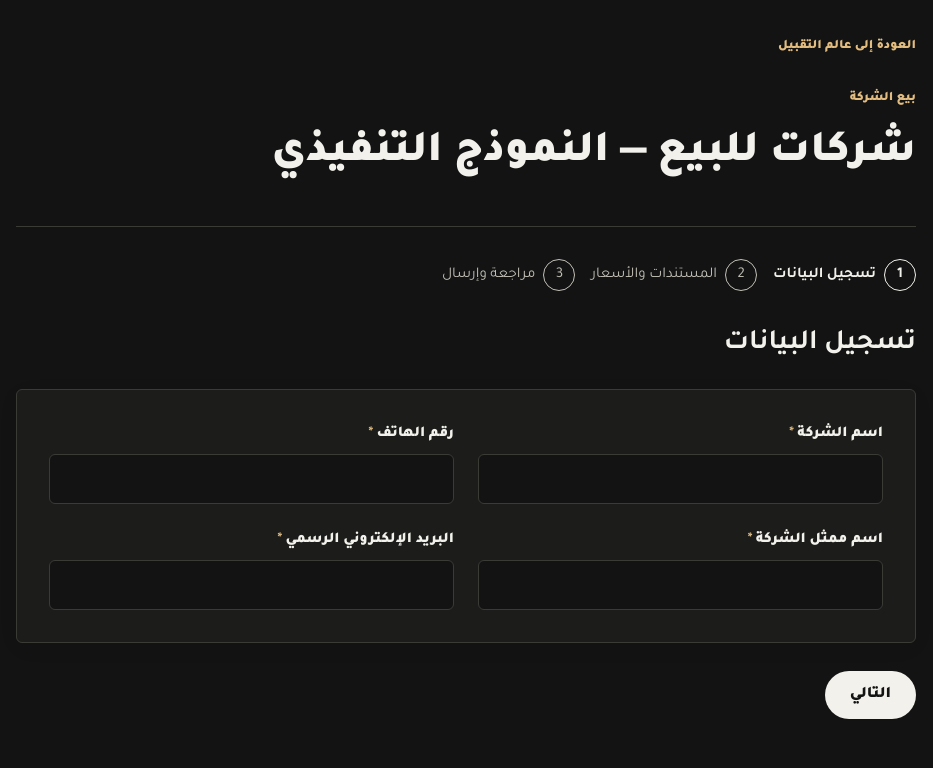
Test case: company sale forms › requires the six executive documents and excludes the page from indexing
The width and height of the screenshot is (933, 768).
In the field labelled "اسم الشركة": (680, 479) [478,454,883,504], type "شركة اختبار"
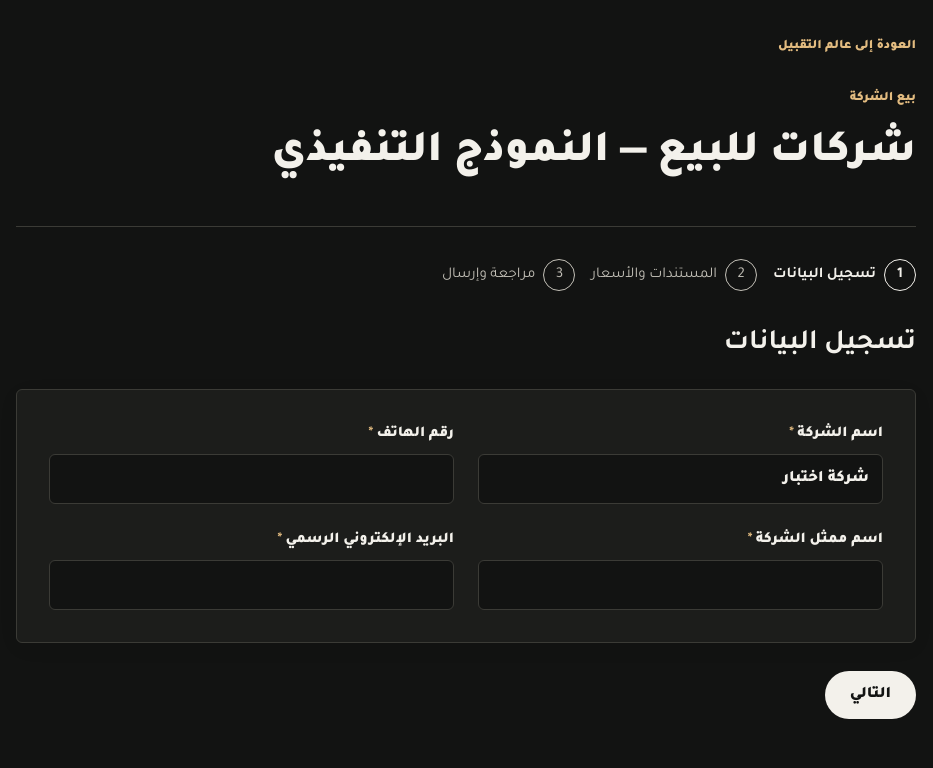
In the field labelled "رقم الهاتف": (252, 479) [49,454,454,504], type "+966512345678"
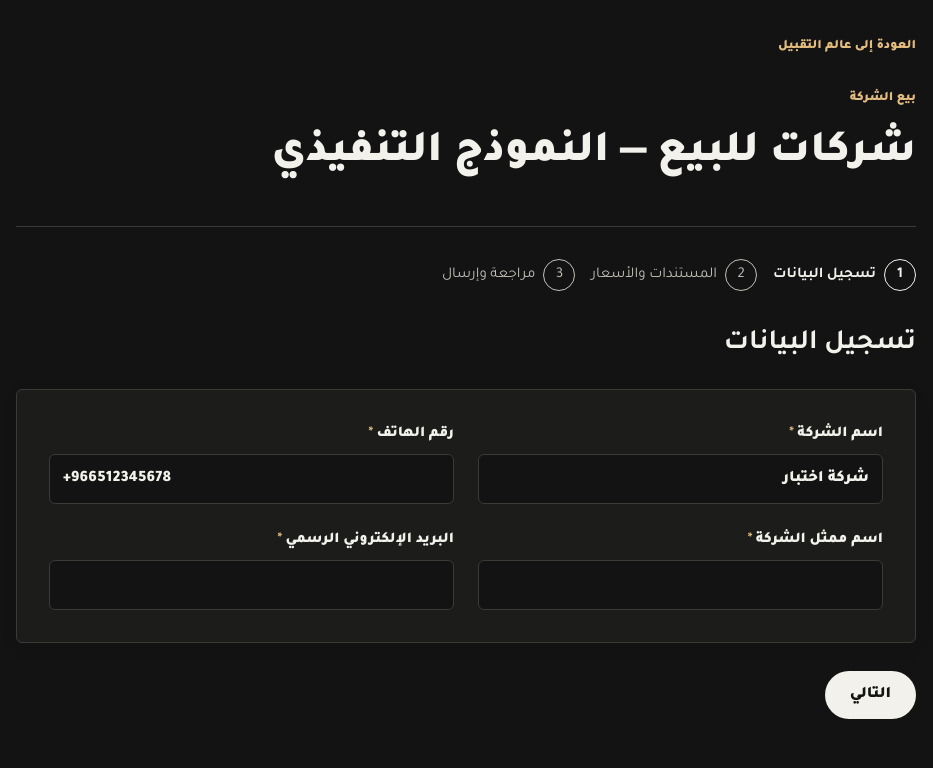
In the field labelled "اسم ممثل الشركة": (680, 585) [478,560,883,610], type "ممثل الاختبار"
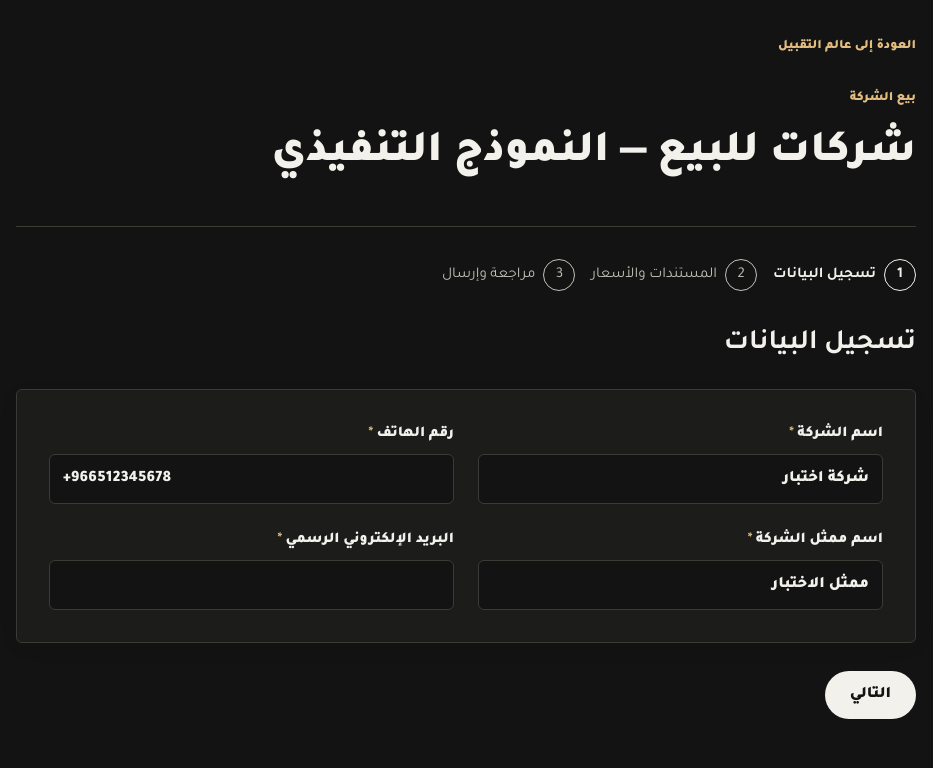
In the field labelled "البريد الإلكتروني": (252, 585) [49,560,454,610], type "test@example.com"
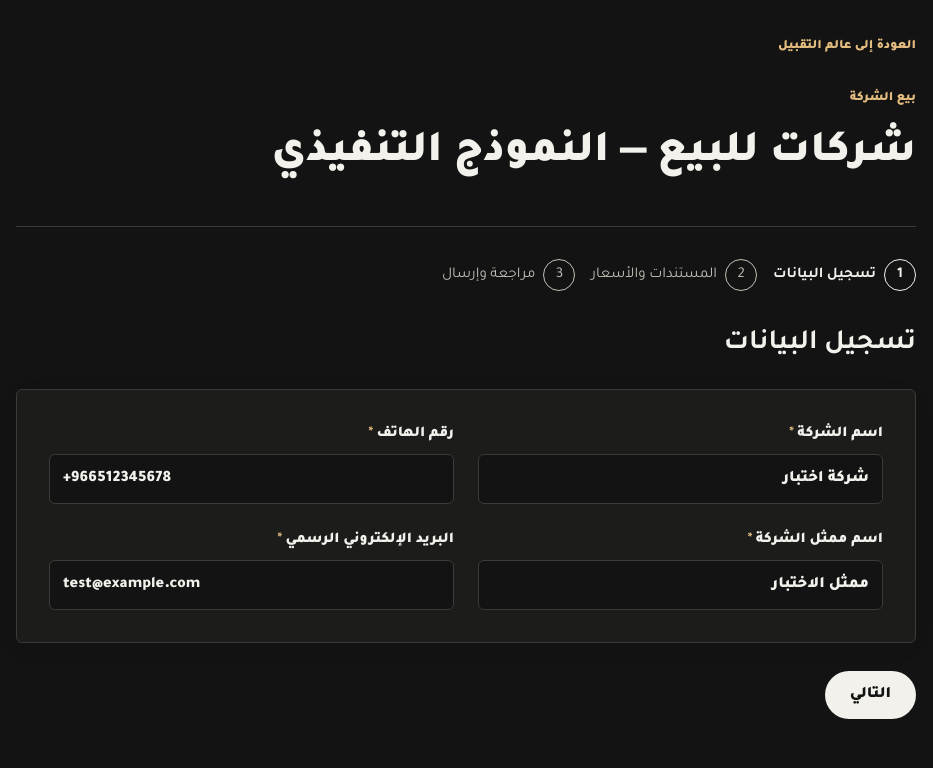
Click the button "التالي": (870, 695) [825,671,916,719]
(page scrolled)
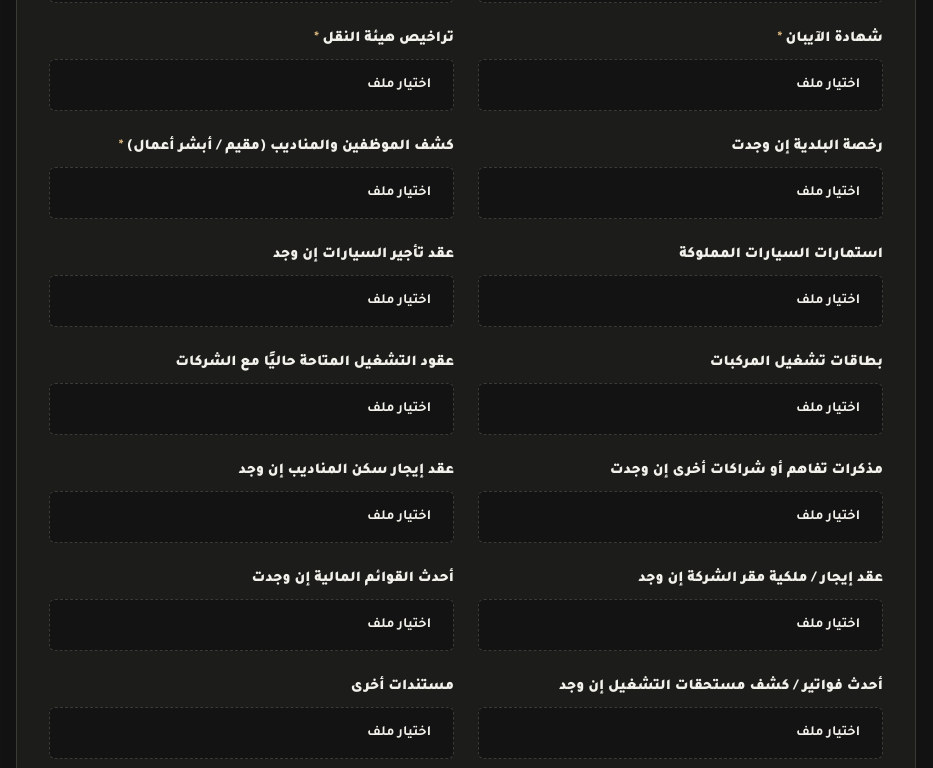
Submit the form
(page scrolled)
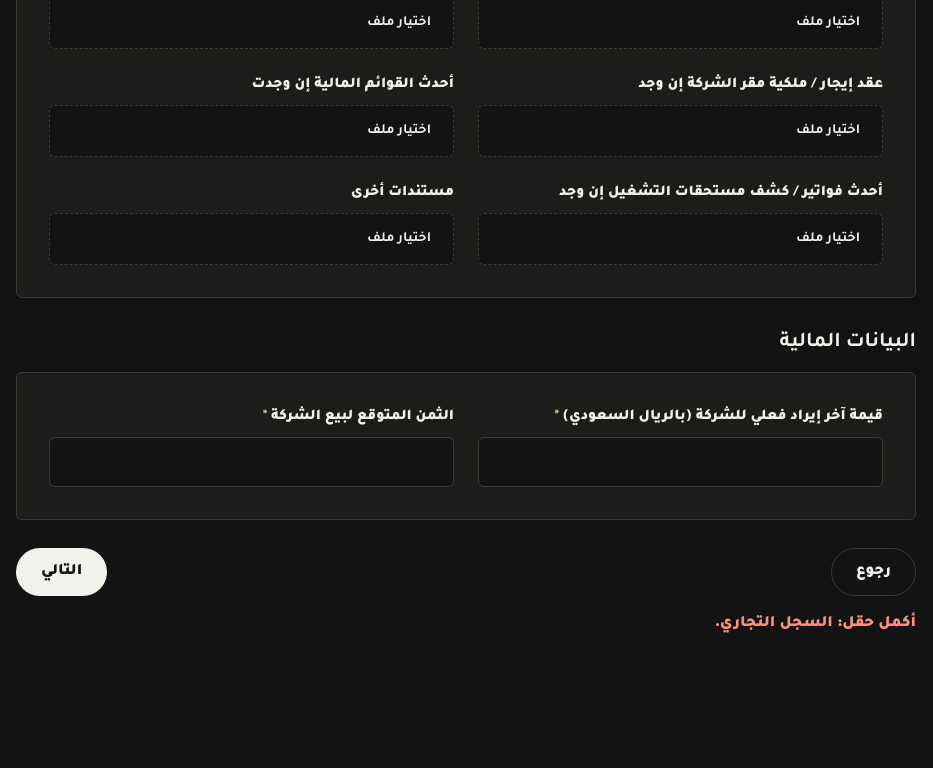
Expected: the text "أكمل حقل: السجل التجاري." is shown, [714,616,916,632]
